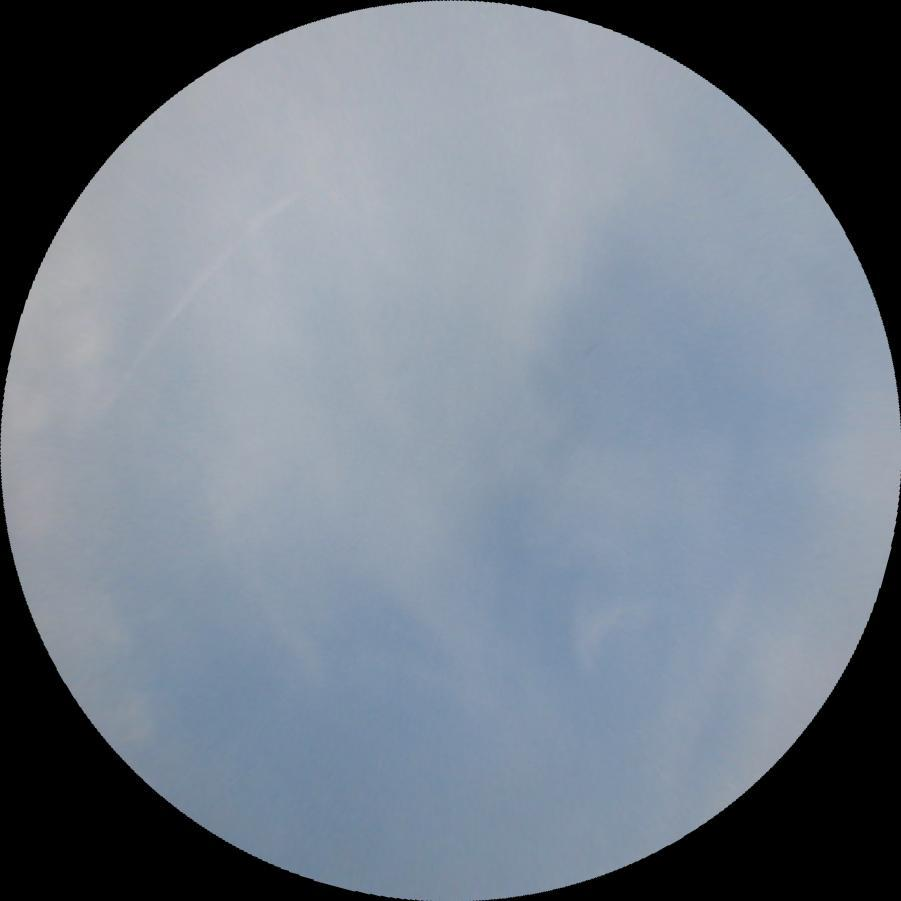contrail old: (79, 170, 321, 420)
